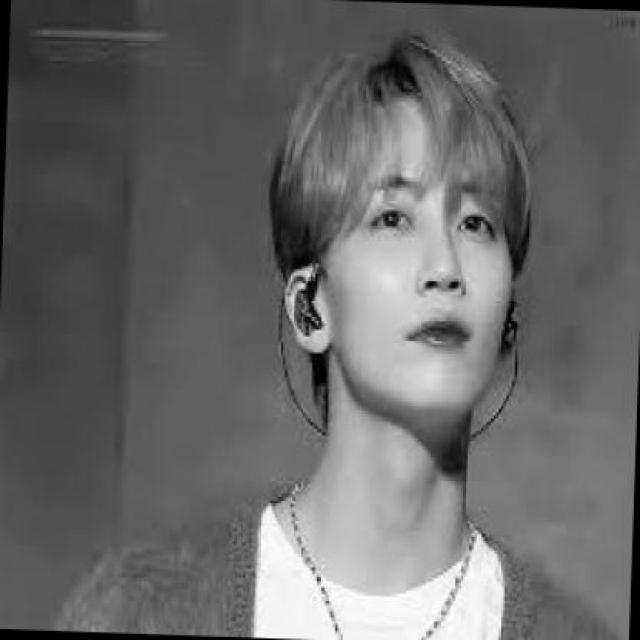earphone: (263, 252, 330, 357), (498, 297, 532, 373)
